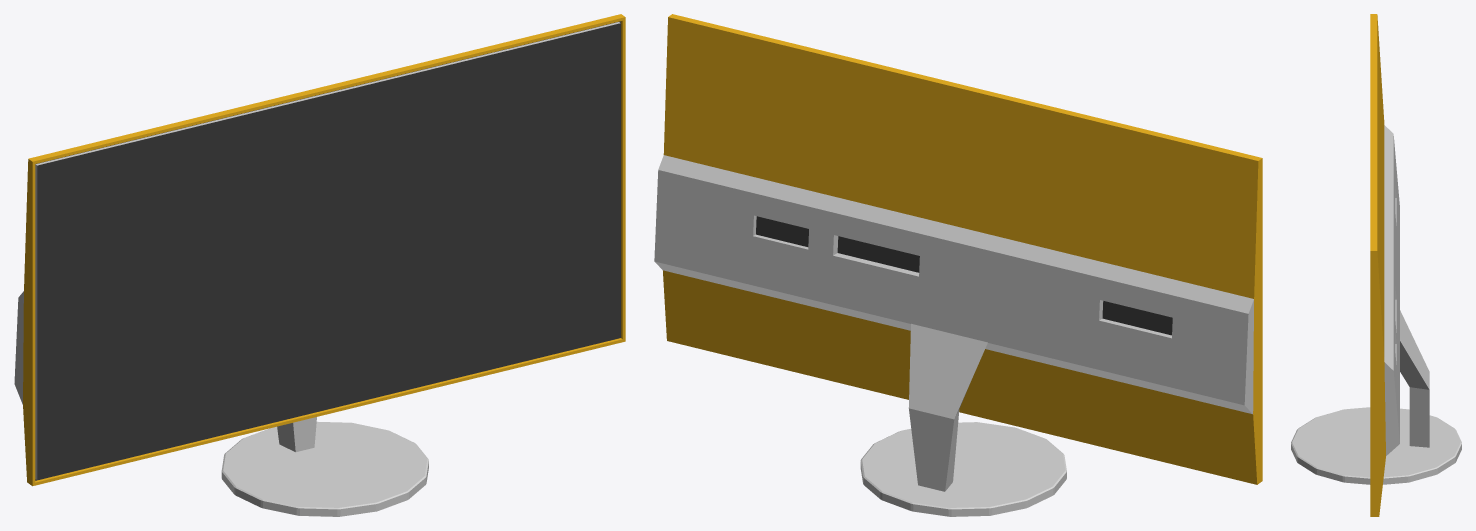
File: monitor.glb
The picture shows the model from 3 angles, left to right: view 1: azimuth 30°, elevation 25°; view 2: azimuth 150°, elevation 25°; view 3: azimuth 270°, elevation 25°; orthographic projection. The views are drawn at different scales.
Parts seen in each view (by area): view 1: Monitor; view 2: Monitor; view 3: Monitor.
Boxes of the visible parts, x1=… form: Monitor: x1=14, y1=14, x2=625, y2=516; Monitor: x1=654, y1=14, x2=1262, y2=516; Monitor: x1=1291, y1=14, x2=1461, y2=516.
Size of the model in its own units: 1.31 by 0.8163 by 0.3988.
